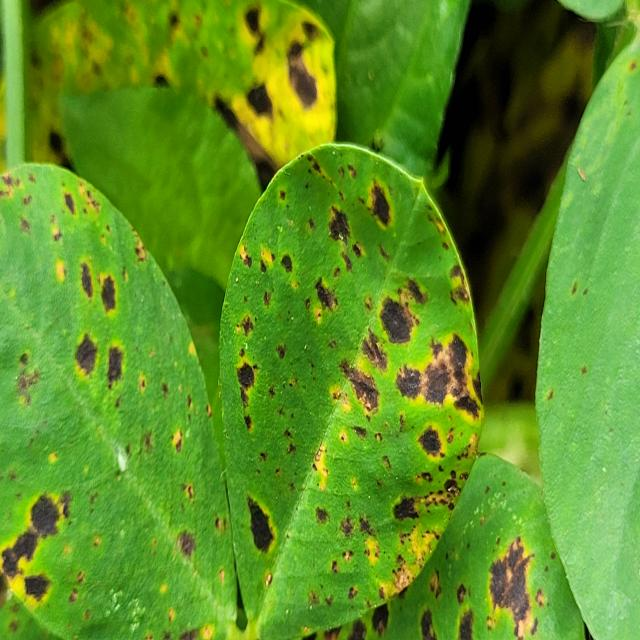Ground nut_tikka leaf spot: (217, 141, 487, 640), (0, 159, 238, 639)
